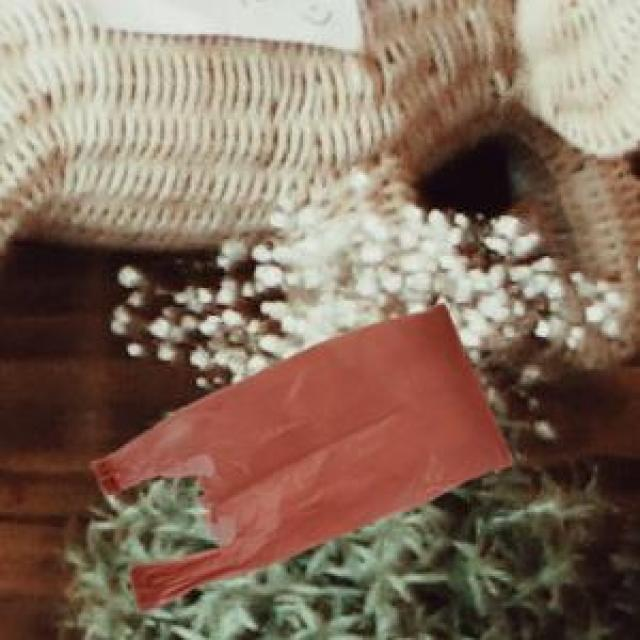waste: (92, 306, 511, 609)
